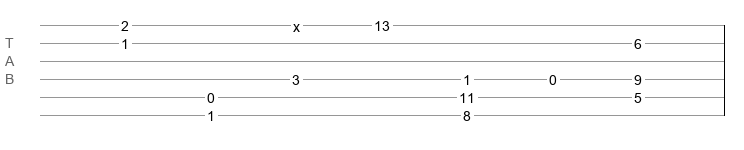0: (207, 90, 215, 100), (549, 72, 557, 82)
1: (121, 36, 129, 46), (207, 108, 215, 118), (463, 72, 471, 82)
11: (459, 90, 475, 100)
13: (374, 18, 390, 28)
2: (121, 18, 129, 28)
3: (292, 72, 300, 82)
5: (634, 90, 642, 100)
6: (634, 36, 642, 46)
8: (463, 108, 471, 118)
9: (634, 72, 642, 82)
x: (293, 19, 300, 27)
